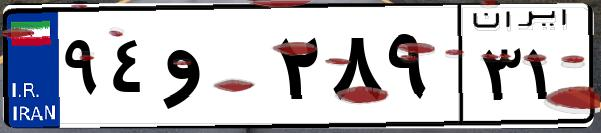1: (525, 38, 570, 115)
2: (270, 28, 330, 110)
3: (475, 38, 525, 113)
4: (110, 28, 158, 98)
8: (330, 28, 385, 110)
9: (385, 28, 445, 110), (57, 26, 110, 100)
و: (158, 20, 270, 120)
